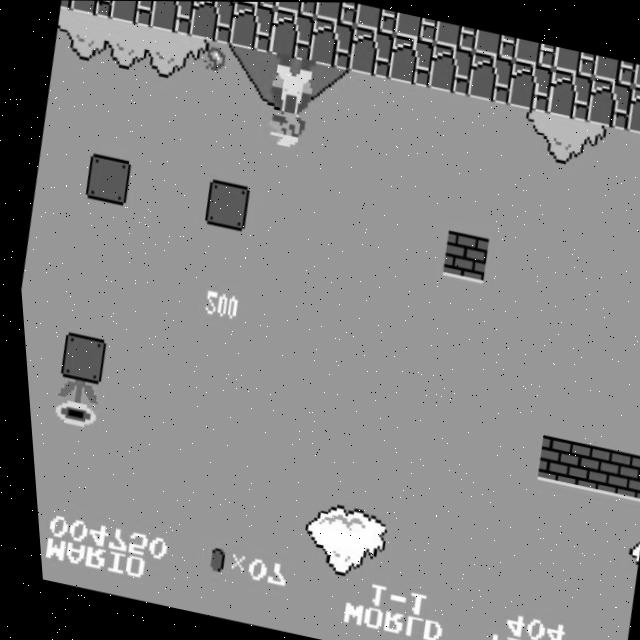1- brick_block: (435, 229, 488, 283), (527, 434, 579, 487), (566, 442, 618, 495), (606, 451, 640, 502)
17- undestructible_block: (344, 24, 397, 79), (423, 41, 476, 96), (502, 58, 555, 113), (264, 8, 317, 62), (304, 16, 357, 70), (383, 33, 436, 87), (462, 50, 515, 104), (542, 67, 595, 121), (581, 76, 634, 130), (225, 1, 278, 53), (186, 1, 239, 44), (146, 1, 198, 36), (392, 11, 438, 43), (352, 3, 399, 34), (431, 20, 478, 51), (470, 28, 517, 59), (510, 37, 557, 68), (550, 45, 597, 76), (589, 54, 636, 85), (107, 1, 159, 27), (312, 2, 358, 25), (621, 84, 640, 138), (68, 0, 119, 19), (273, 2, 319, 17), (628, 63, 640, 94), (59, 0, 79, 10)
3- empty_block: (78, 152, 131, 206), (197, 178, 250, 232), (51, 331, 103, 384)
4- fire_mario: (253, 50, 321, 152)
5- fireball: (200, 45, 226, 75)
6- flower: (41, 375, 97, 432)
